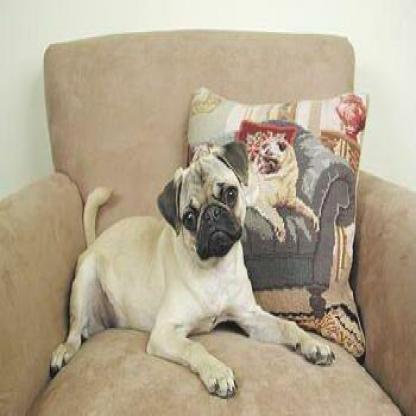pug: (48, 144, 334, 395)
